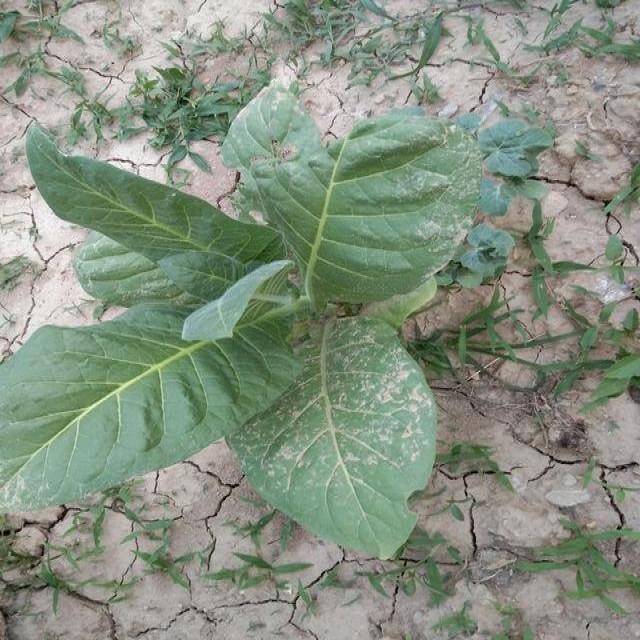crop: (4, 74, 478, 576)
